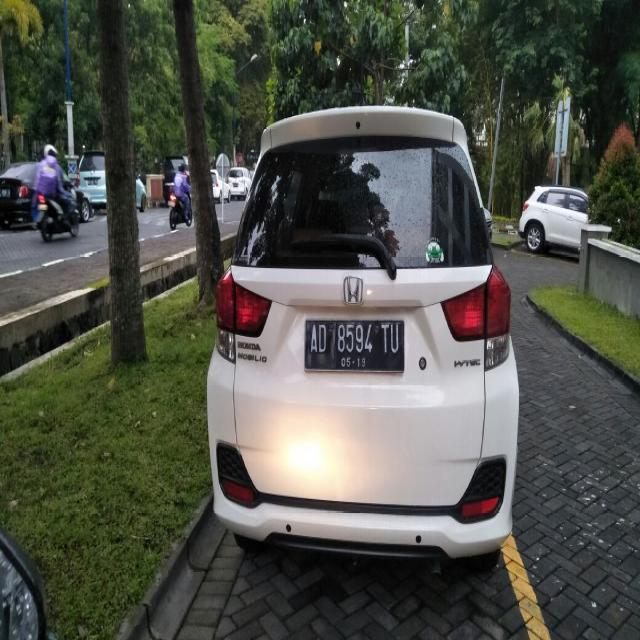plate: (303, 316, 405, 375)
